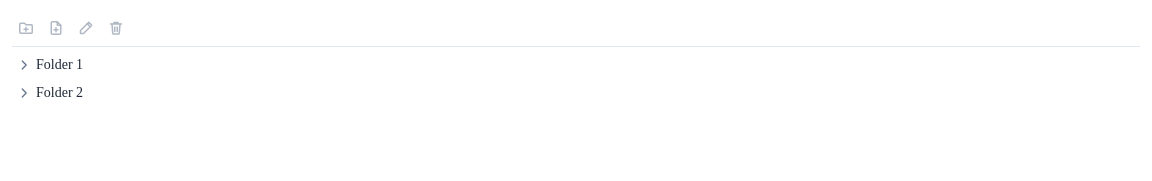
Scenario: Direactree › uses a file description under the file row
The width and height of the screenshot is (1152, 181).
Click the button without text next to "Folder 2". click: {"x": 24, "y": 93}
box: [16, 85, 32, 101]
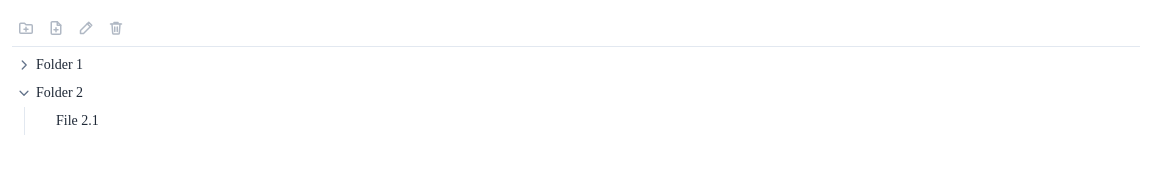
Click the list item "File 2.1". click: {"x": 77, "y": 121}
box: [56, 113, 99, 128]
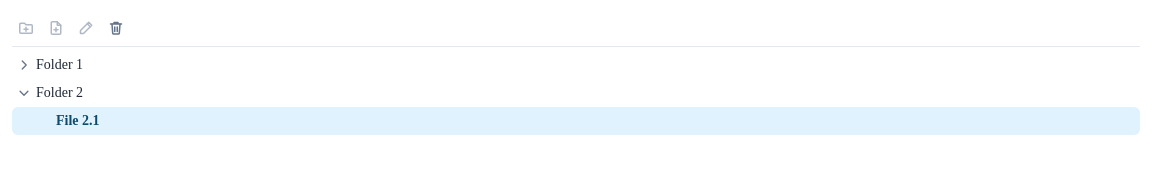
Click the button named "Delete". click: {"x": 116, "y": 28}
box: [102, 14, 130, 42]
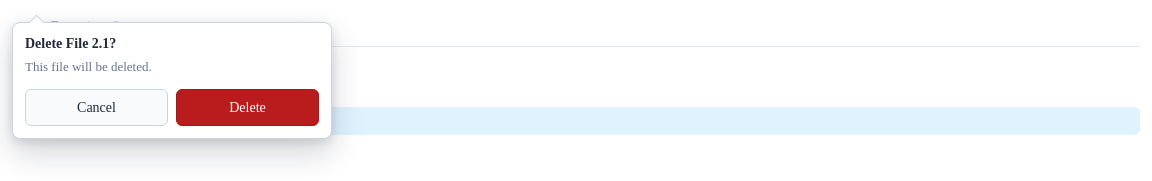
Expected: the element "Delete File 2.1?" shows "This file will be deleted.", [25, 59, 152, 74]
Expected: the element "Delete File 2.1?" is shown, [12, 22, 332, 139]
